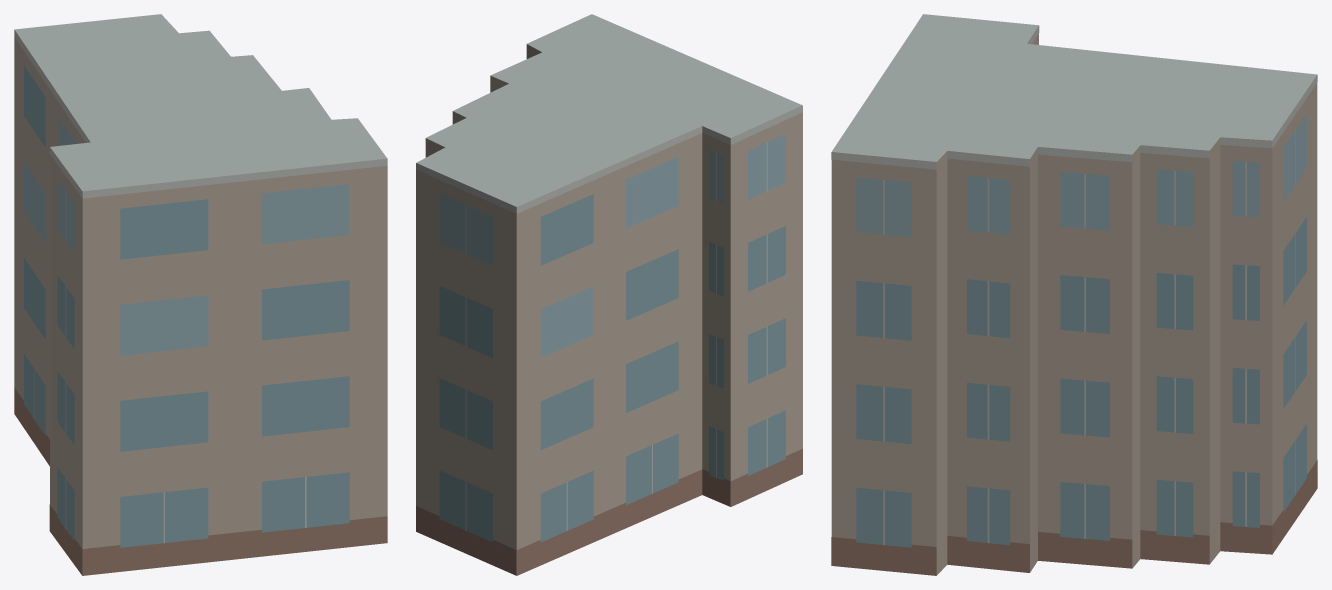
Rendered from survey-upis-32831182.glb.
The picture shows the model from 3 angles, left to right: view 1: azimuth 30°, elevation 25°; view 2: azimuth 150°, elevation 25°; view 3: azimuth 270°, elevation 25°; orthographic projection. The views are drawn at different scales.
Parts seen in each view (by area): view 1: survey-upis-32831182.tmp; view 2: survey-upis-32831182.tmp; view 3: survey-upis-32831182.tmp.
Part boxes in pixels (x1=…): survey-upis-32831182.tmp: x1=14, y1=14, x2=387, y2=575; survey-upis-32831182.tmp: x1=416, y1=14, x2=802, y2=575; survey-upis-32831182.tmp: x1=831, y1=14, x2=1317, y2=575.
Size of the model in its own units: 10.09 by 13.15 by 14.01.
